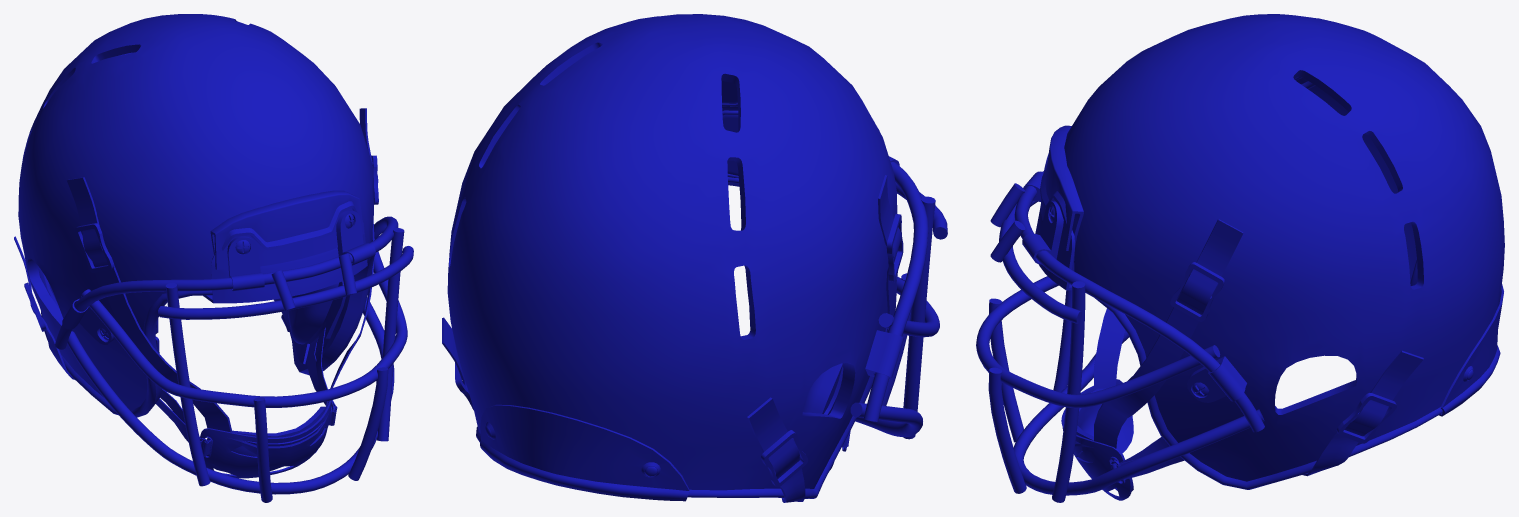
File: Football Helmet Full.fbx
3 renders of one model, left to right at view 1: azimuth 30°, elevation 25°; view 2: azimuth 150°, elevation 25°; view 3: azimuth 270°, elevation 25°, orthographic. The views are drawn at different scales.
Parts seen in each view (by area): view 1: Helmet_UV01_low, Helmet_UV03_low, Helmet_UV02_low; view 2: Helmet_UV01_low, Helmet_UV03_low, Helmet_UV02_low; view 3: Helmet_UV01_low, Helmet_UV03_low, Helmet_UV02_low.
Part boxes in pixels (box(x1,y1,x2,y2)): Helmet_UV01_low: box(18, 14, 404, 502); Helmet_UV03_low: box(14, 52, 413, 494); Helmet_UV02_low: box(43, 108, 398, 456); Helmet_UV01_low: box(447, 14, 935, 498); Helmet_UV03_low: box(442, 129, 947, 502); Helmet_UV02_low: box(721, 81, 928, 447); Helmet_UV01_low: box(988, 14, 1504, 502); Helmet_UV03_low: box(976, 77, 1503, 495); Helmet_UV02_low: box(1014, 76, 1302, 482).
Size of the model in its own units: 364 by 439 by 472.
